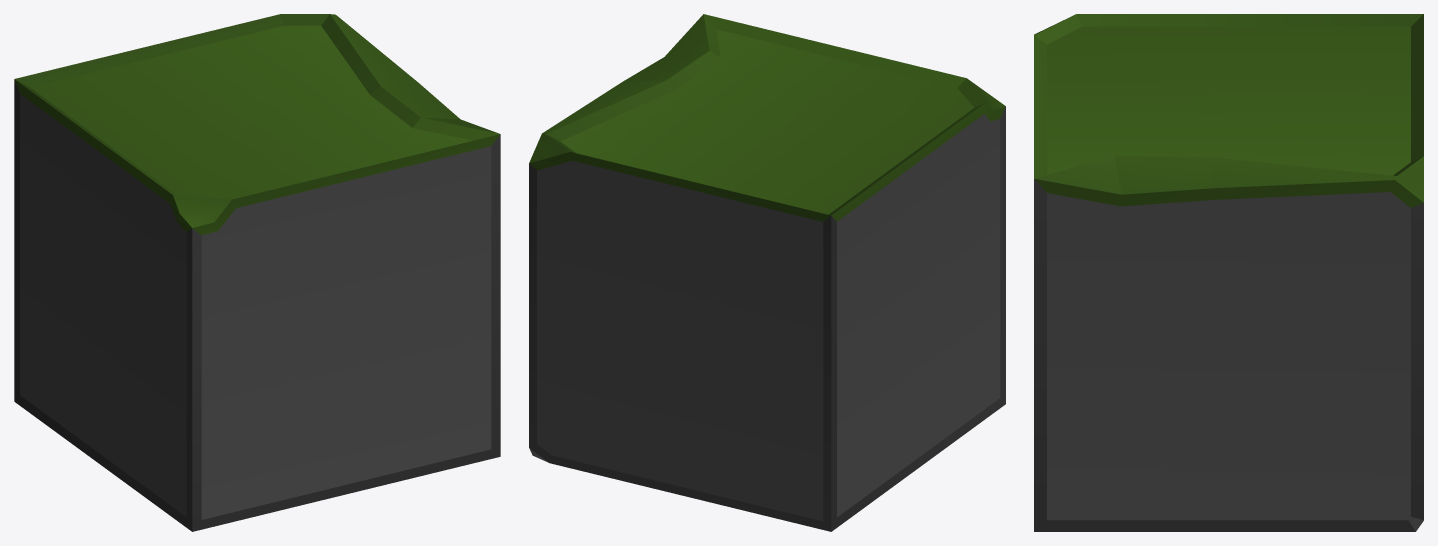
Rendered from Ruin2.fbx.
3 renders of one model, left to right at view 1: azimuth 30°, elevation 25°; view 2: azimuth 150°, elevation 25°; view 3: azimuth 270°, elevation 25°, orthographic. The views are drawn at different scales.
Visible parts, largest first — view 1: Ruine2; view 2: Ruine2; view 3: Ruine2.
Part boxes in pixels (bbox=[...]): Ruine2: bbox=[14, 14, 500, 531]; Ruine2: bbox=[529, 14, 1005, 531]; Ruine2: bbox=[1034, 14, 1423, 531].
Bounding box in the file's own units: 2 × 2 × 2.
